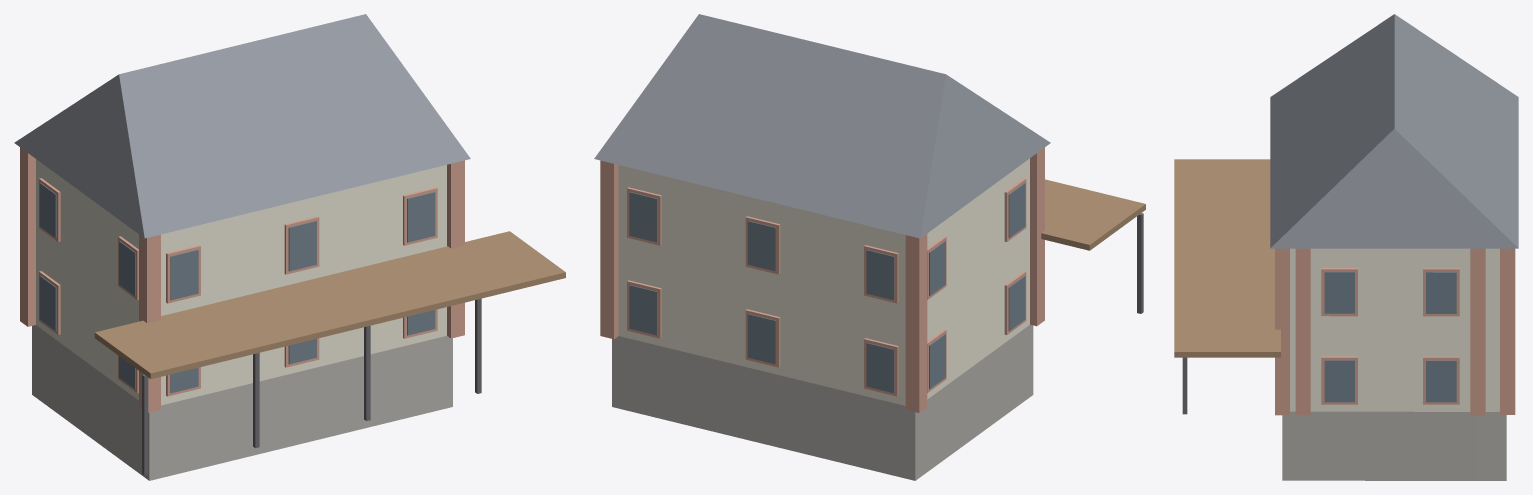
The model's file is station-347879101.glb.
The picture shows the model from 3 angles, left to right: view 1: azimuth 30°, elevation 25°; view 2: azimuth 150°, elevation 25°; view 3: azimuth 270°, elevation 25°; orthographic projection. The views are drawn at different scales.
Visible parts, largest first — view 1: building; view 2: building; view 3: building.
Part boxes in pixels (left/top/right/bottom): building: left=14, top=14, right=565, bottom=480; building: left=594, top=14, right=1145, bottom=480; building: left=1174, top=14, right=1518, bottom=480.
Size of the model in its own units: 15.02 by 12.27 by 11.3.
